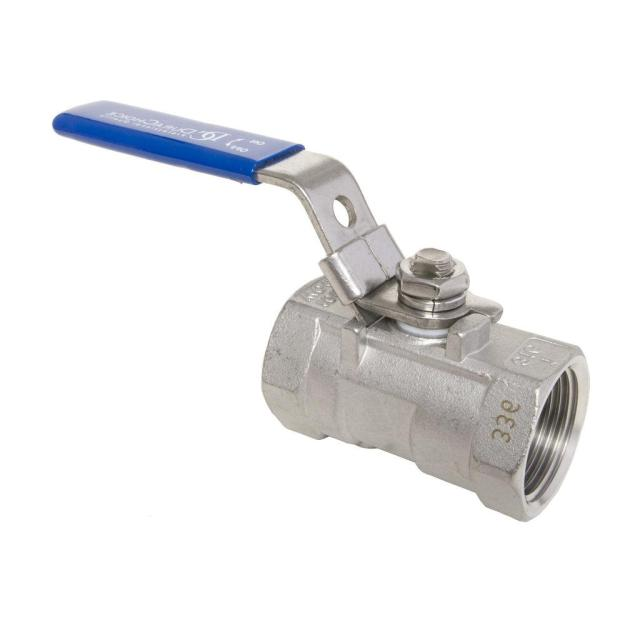opened_valve: (50, 94, 592, 524)
